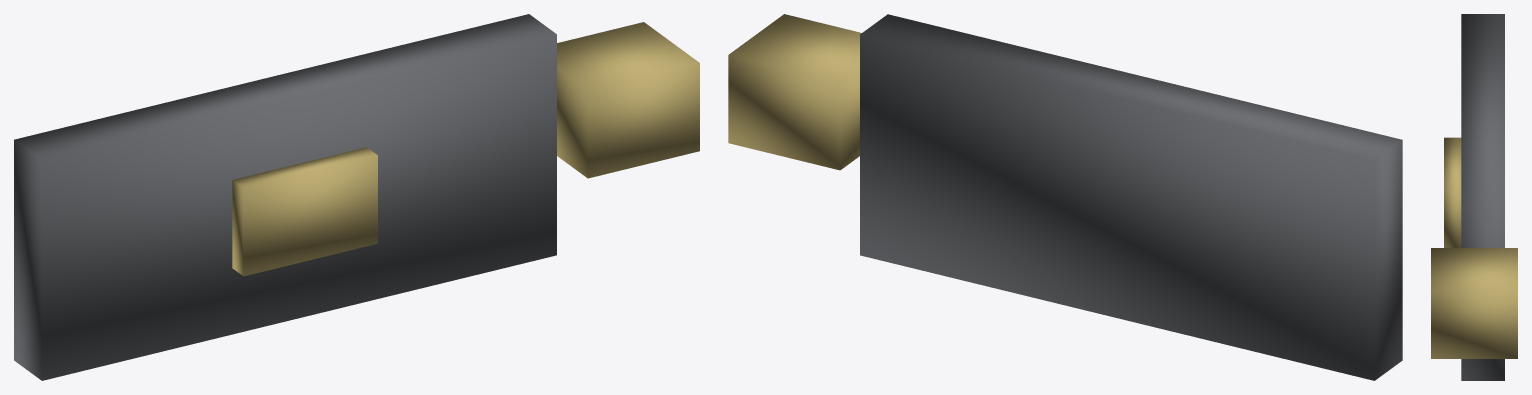
Rendered from floor_indicator_11.glb.
3 views of the same model, side by side, from view 1: azimuth 30°, elevation 25°; view 2: azimuth 150°, elevation 25°; view 3: azimuth 270°, elevation 25° (orthographic). The views are drawn at different scales.
Visible parts, largest first — view 1: world; view 2: world; view 3: world.
Part boxes in pixels (box(x1,y1,x2,y2)): world: box(14, 14, 699, 380); world: box(728, 14, 1402, 380); world: box(1431, 14, 1517, 380).
Size of the model in its own units: 0.5928 by 0.196 by 0.09.
